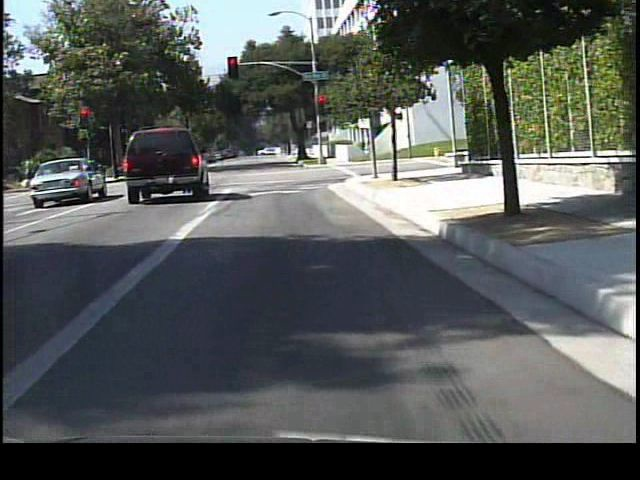person: (364, 135, 367, 163)
